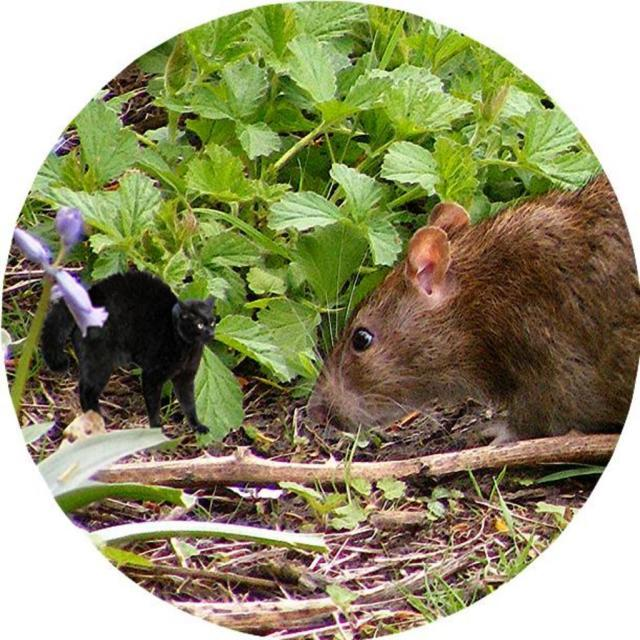rat: (302, 174, 640, 432)
